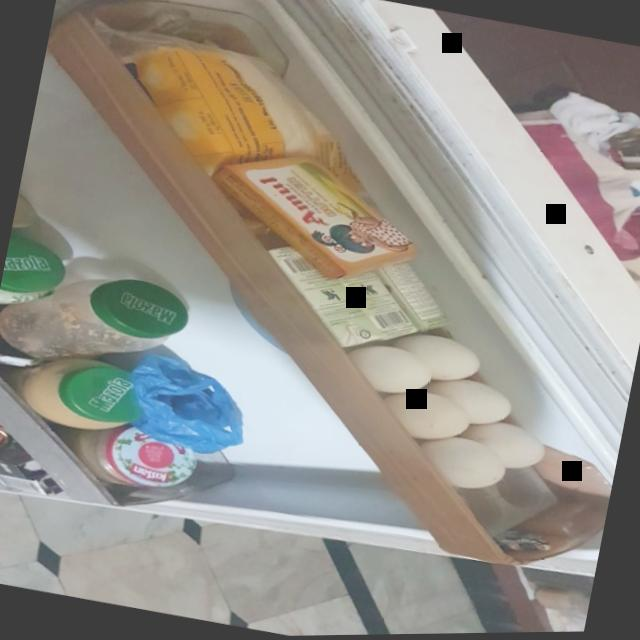butter: (205, 136, 440, 290)
eggs: (402, 426, 509, 500), (387, 322, 491, 393), (344, 331, 438, 400), (382, 382, 473, 451), (424, 371, 517, 433), (458, 417, 551, 478)
